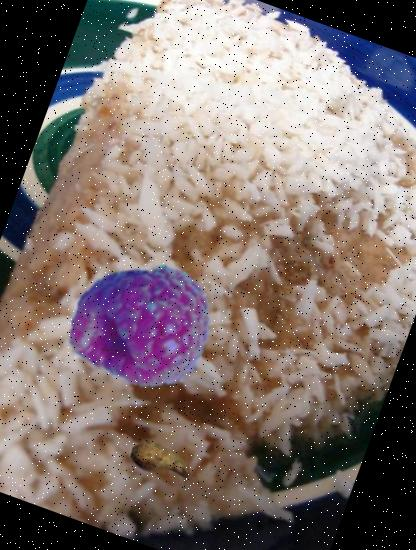Pear: (120, 422, 201, 503)
Raspberry: (45, 233, 235, 423)
